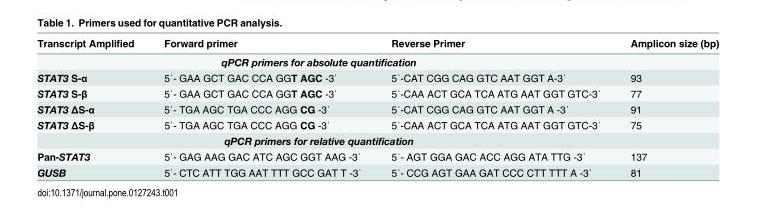table: (36, 36, 718, 178)
table column: (375, 36, 614, 178), (148, 36, 375, 178), (36, 36, 148, 178), (614, 36, 718, 178)
table column header: (36, 36, 718, 51)
table projected row header: (36, 51, 718, 69), (36, 132, 718, 148)
table row: (36, 51, 718, 69), (36, 69, 718, 85), (36, 85, 718, 101), (36, 116, 718, 132), (36, 132, 718, 148), (36, 148, 718, 164), (36, 36, 718, 51), (36, 101, 718, 116), (36, 164, 718, 178)
